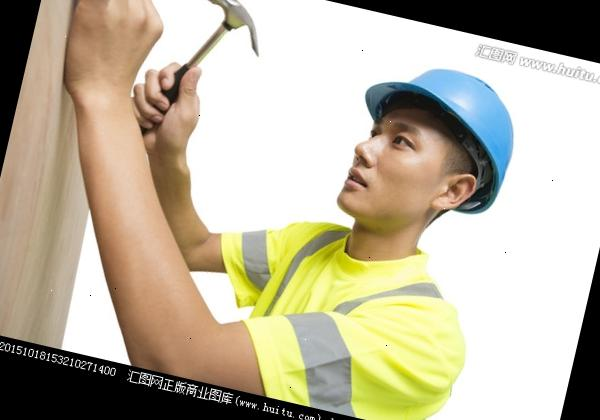helmet: (343, 51, 529, 216)
